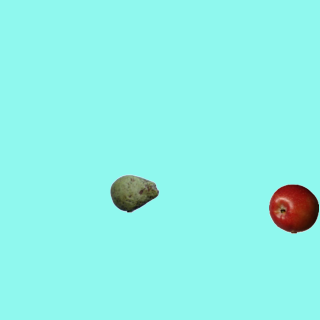Apple Braeburn: (268, 183, 318, 233)
Pear Stone: (109, 168, 159, 218)
